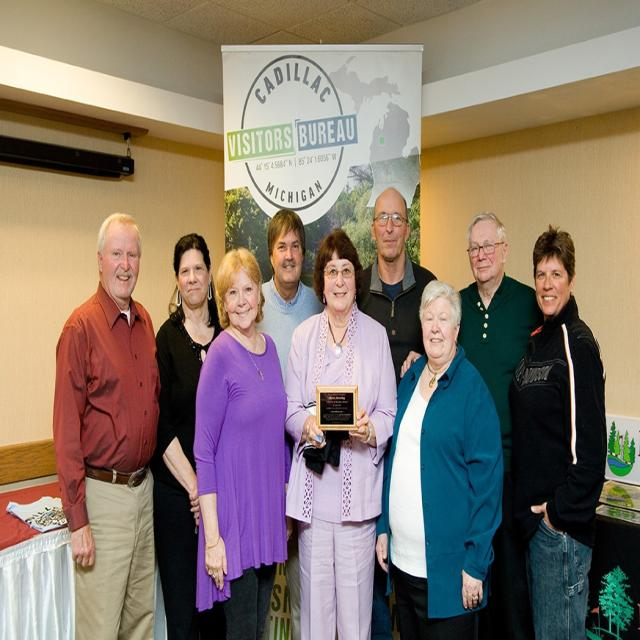body: (373, 277, 503, 639), (287, 227, 398, 639), (54, 210, 160, 639), (503, 221, 608, 639), (190, 245, 292, 639), (456, 209, 546, 640), (148, 233, 228, 636), (253, 207, 327, 640), (351, 185, 441, 385)
